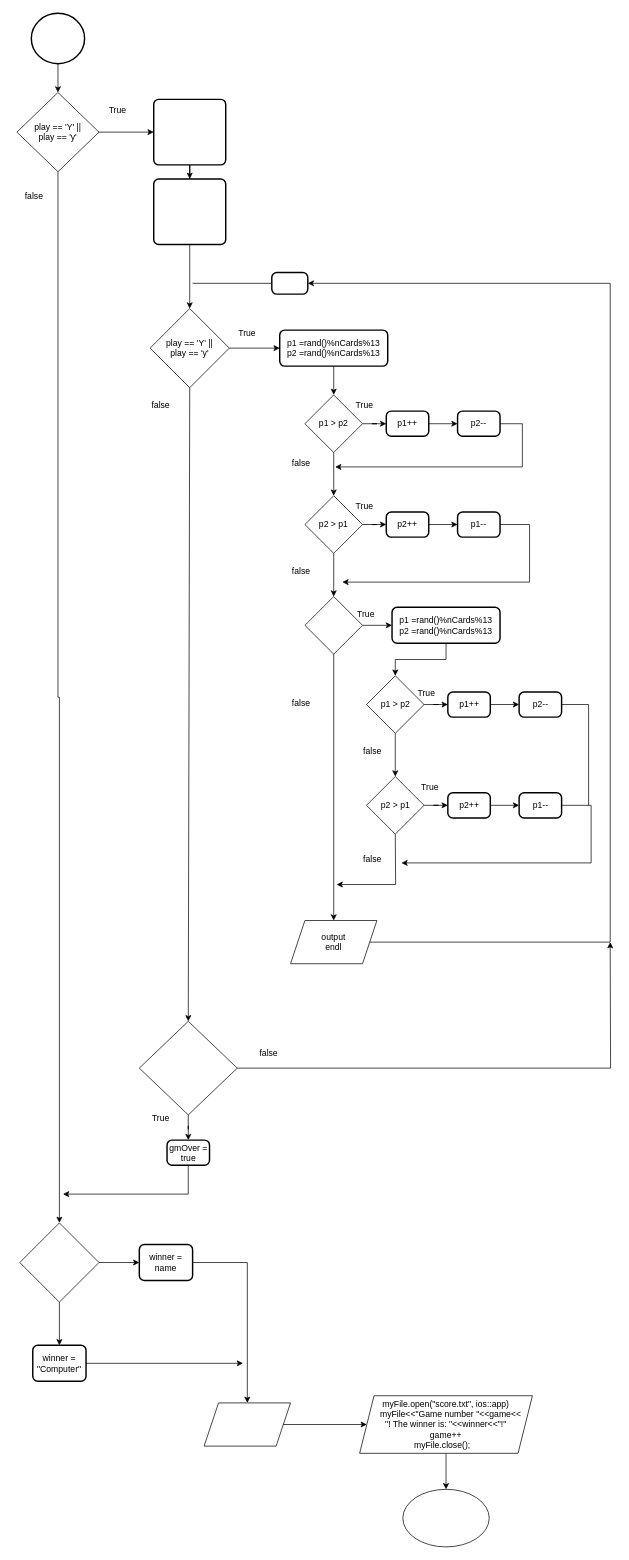
Some shapes in this 629 by 1560 pixel diagram are drawn without their labels. Each missing label, with the box of its shape:
Declare and Initialize Loop int = 0: (153, 178, 226, 245)
i++: (271, 271, 308, 294)
Initialize Variables p1Card = 26 p2Card = 26 gmOver = false: (153, 98, 226, 165)
Output "The winner is " winner: (203, 1402, 291, 1446)
p1 == p2: (304, 596, 363, 654)
p1Card >= 52: (19, 1222, 99, 1302)
p1Card >= 52 || p2Card >= 52: (139, 1021, 237, 1115)
Page 2: (30, 12, 85, 64)
Return 0 Exit from main: (402, 1489, 489, 1547)
